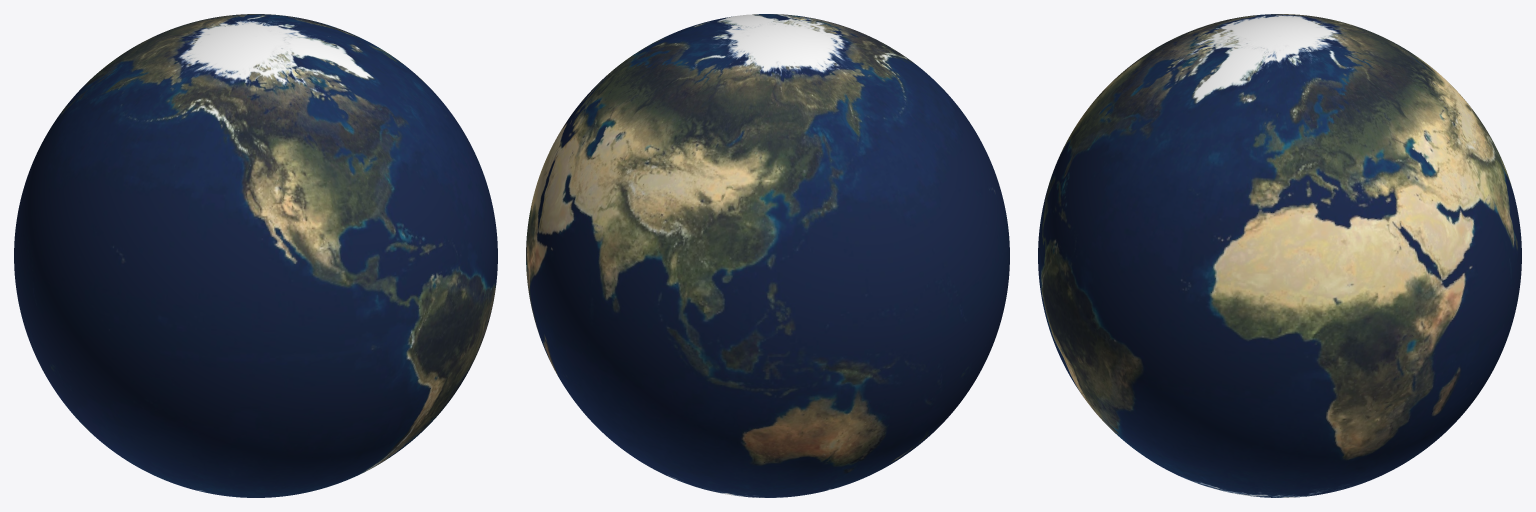
File: tierra_cientifica.glb
3 views of the same model, side by side, from view 1: azimuth 30°, elevation 25°; view 2: azimuth 150°, elevation 25°; view 3: azimuth 270°, elevation 25° (orthographic).
Parts seen in each view (by area): view 1: Earth_GLTF; view 2: Earth_GLTF; view 3: Earth_GLTF.
Boxes of the visible parts, left/top/right/bottom form: Earth_GLTF: left=14, top=14, right=497, bottom=497; Earth_GLTF: left=526, top=14, right=1009, bottom=497; Earth_GLTF: left=1038, top=14, right=1521, bottom=497.
Bounding box in the file's own units: 2 × 2 × 2.
Materials: 1 (1 with a texture image).
